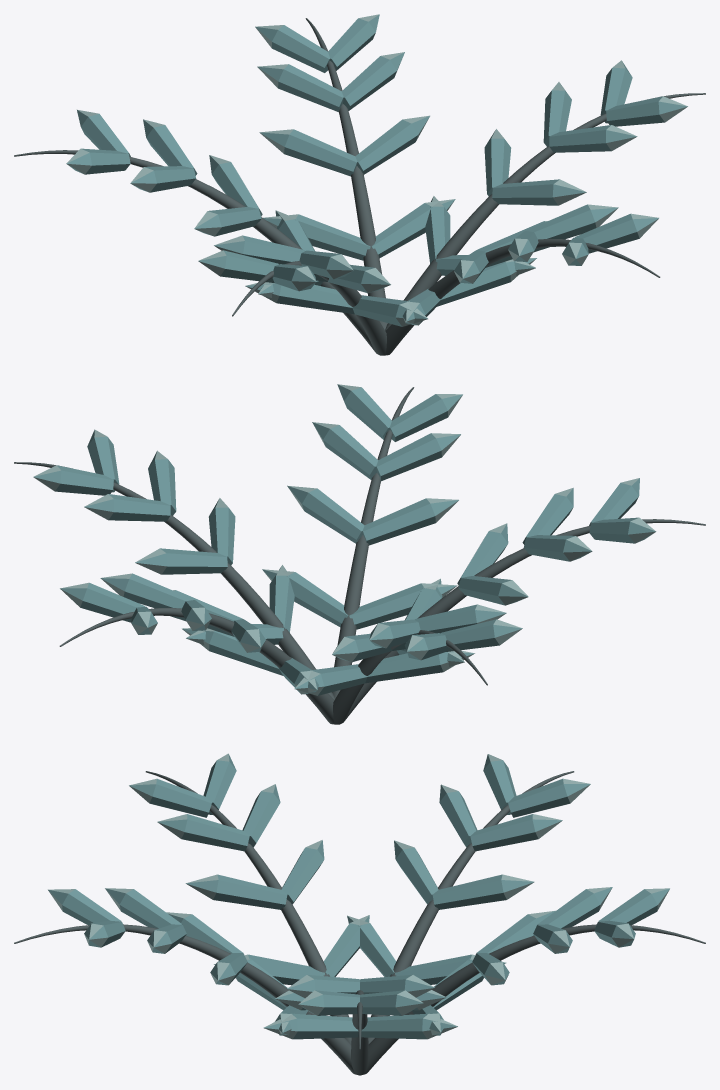
The model's file is glass_fern.glb.
The picture shows the model from 3 angles, top to bottom: view 1: azimuth 30°, elevation 25°; view 2: azimuth 150°, elevation 25°; view 3: azimuth 270°, elevation 25°; orthographic projection. The views are drawn at different scales.
Visible parts, largest first — view 1: glass_fern; view 2: glass_fern; view 3: glass_fern.
Boxes of the visible parts, left/top/right/bottom form: glass_fern: left=14, top=14, right=705, bottom=355; glass_fern: left=14, top=384, right=705, bottom=724; glass_fern: left=14, top=753, right=705, bottom=1075.
Bounding box in the file's own units: 0.9054 × 0.3071 × 0.9518.
